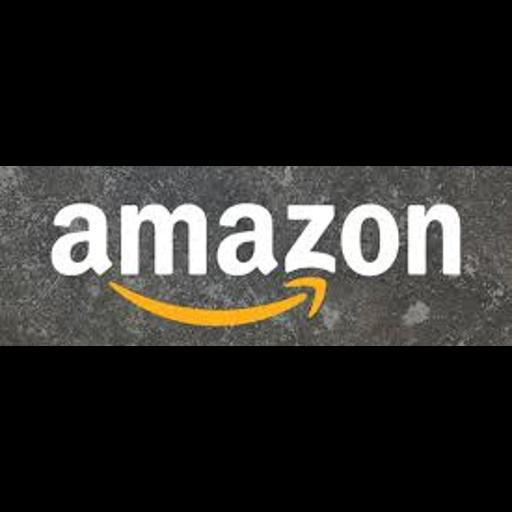Amazon: (0, 166, 512, 346)
